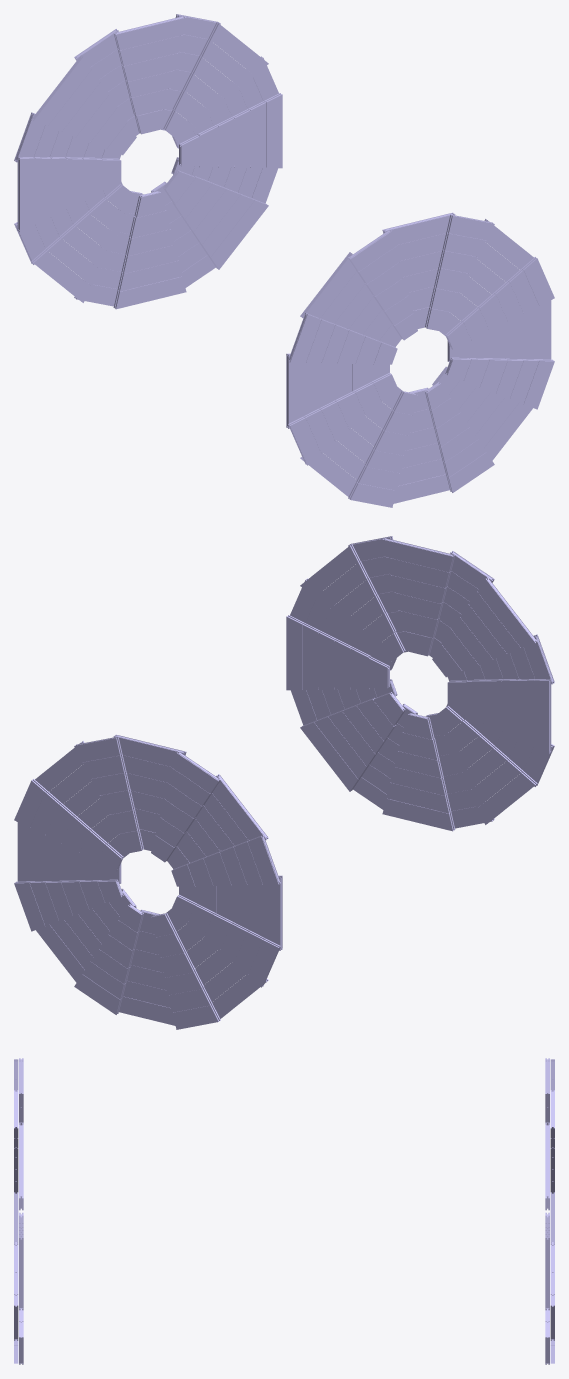
Rendered from Outer-Wheel.gltf.
3 views of the same model, one above another, from view 1: azimuth 30°, elevation 25°; view 2: azimuth 150°, elevation 25°; view 3: azimuth 270°, elevation 25° (orthographic). The views are drawn at different scales.
Visible parts, largest first — view 1: _0467E0D8; view 2: _0467E0D8; view 3: _0467E0D8.
Part boxes in pixels (left/top/right/bottom): _0467E0D8: left=14, top=14, right=554, bottom=507; _0467E0D8: left=14, top=536, right=554, bottom=1029; _0467E0D8: left=14, top=1058, right=554, bottom=1364.
Size of the model in its own units: 24.38 by 24.38 by 44.05.
